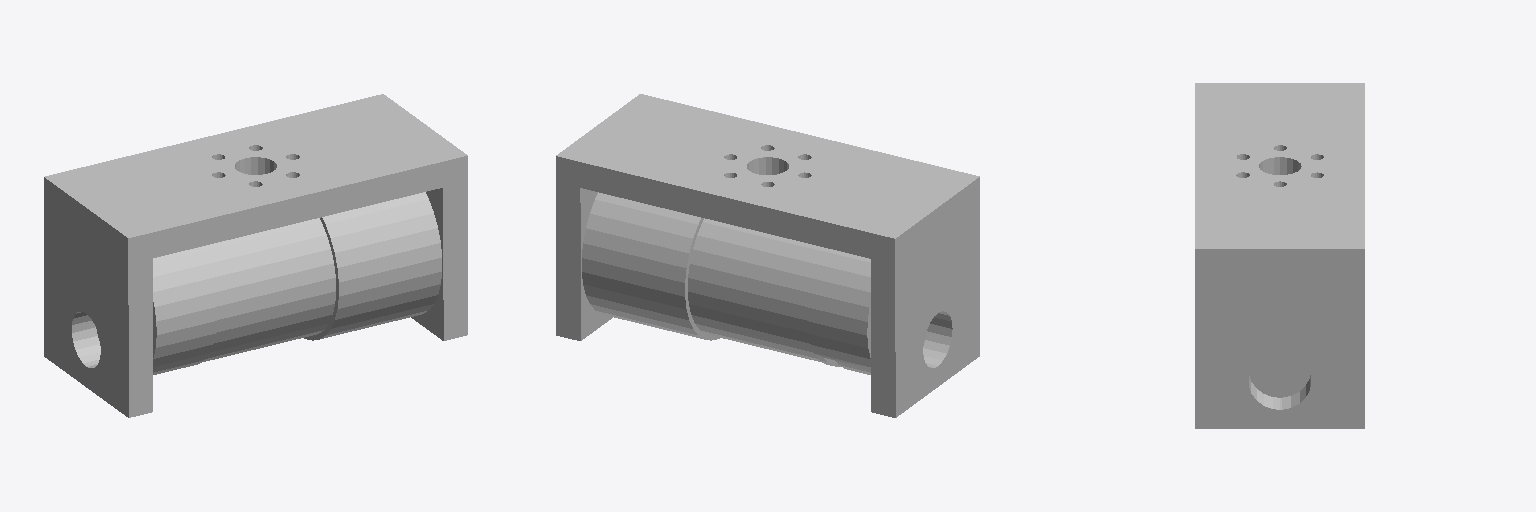
The model's file is roll1.obj.
3 renders of one model, left to right at view 1: azimuth 30°, elevation 25°; view 2: azimuth 150°, elevation 25°; view 3: azimuth 270°, elevation 25°, orthographic.
Parts seen in each view (by area): view 1: Object.1, Object.3, Object.4, Object.2; view 2: Object.1, Object.3, Object.4, Object.2; view 3: Object.1, Object.2, Object.3.
Boxes of the visible parts, <box> form: Object.1: <box>44,94,467,263</box>; Object.3: <box>97,192,441,374</box>; Object.4: <box>44,203,152,417</box>; Object.2: <box>411,182,467,340</box>; Object.1: <box>556,94,979,264</box>; Object.3: <box>582,192,926,374</box>; Object.4: <box>871,203,979,417</box>; Object.2: <box>556,182,612,340</box>; Object.1: <box>1195,83,1364,274</box>; Object.2: <box>1195,275,1364,428</box>; Object.3: <box>1249,353,1309,397</box>.
Bounding box in the file's own units: 87 × 44.03 × 37.69.